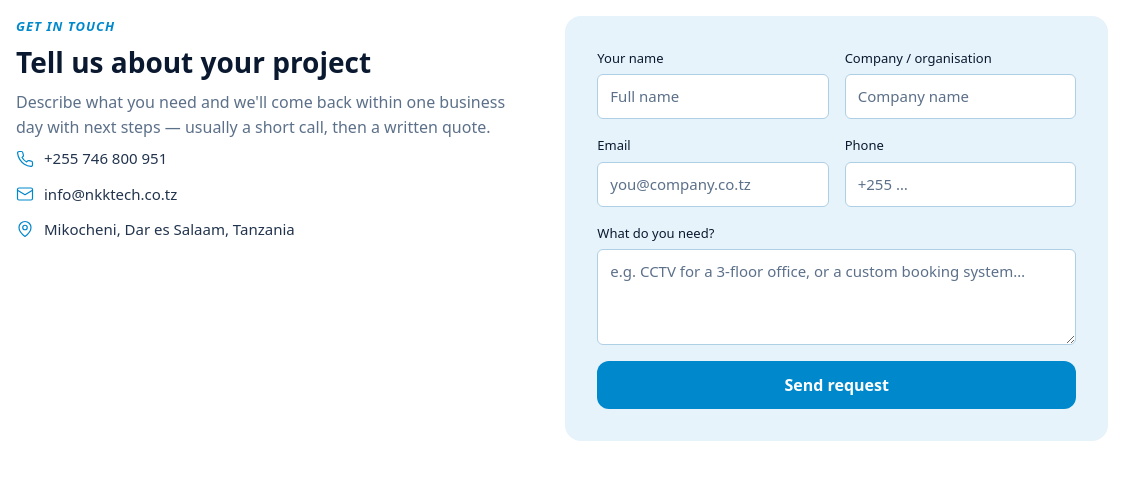
QuoteSection form › shows an error and no success when submitting empty
What coordinates should you click on to do the following:
click the button "Send request"
I would click on:
 (837, 385)
Its box is [597,361,1076,409].
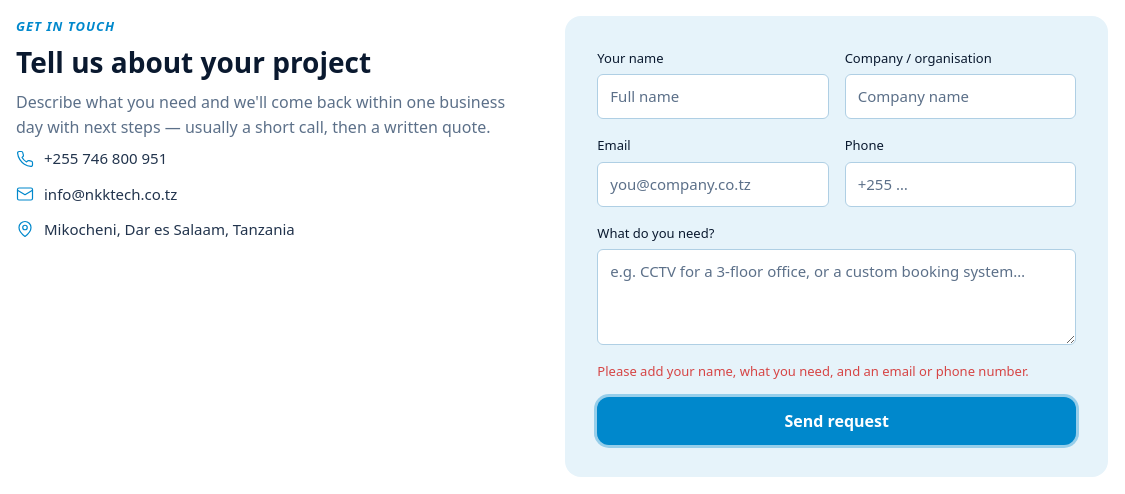
Check: the text "Please add your name, what you need, and an email or phone number." is shown, box [597,361,1076,381]
